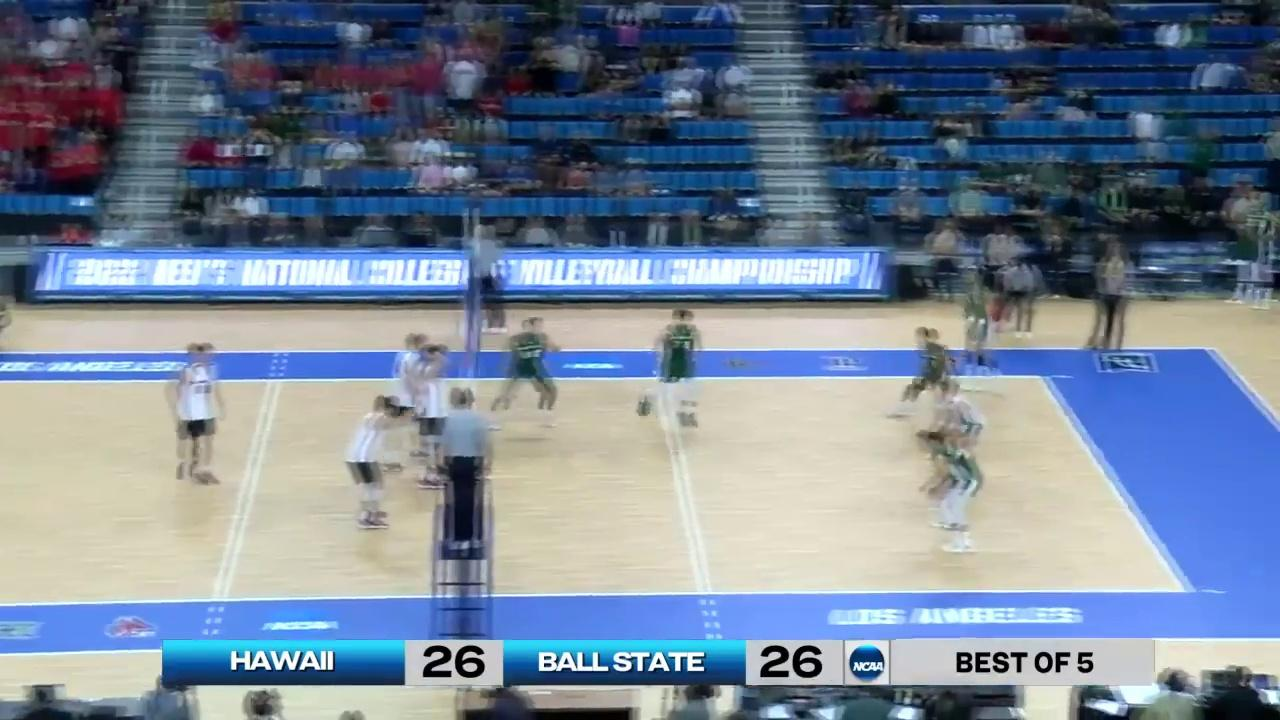player: (491, 318, 564, 433), (637, 309, 705, 430), (167, 336, 222, 483), (346, 393, 402, 532), (929, 432, 985, 555), (893, 327, 959, 422), (388, 330, 433, 469), (409, 345, 453, 487), (921, 383, 984, 472), (957, 271, 996, 389)
refree: (436, 389, 492, 553), (991, 256, 1045, 338), (463, 222, 500, 331)
